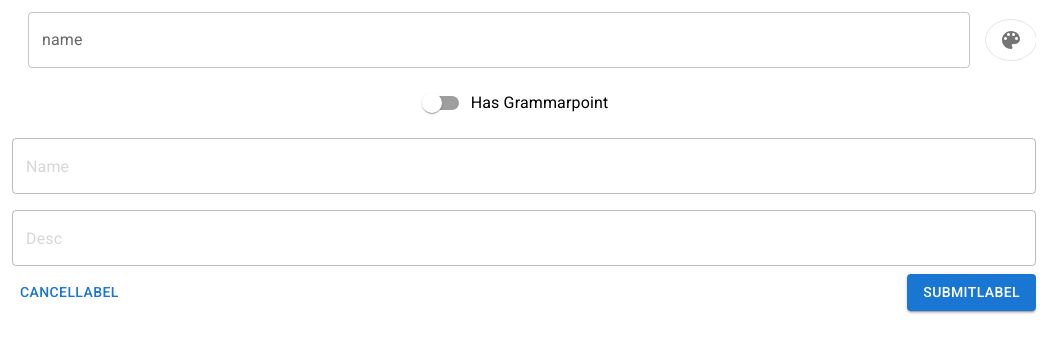
Scenario: Tag Form › should display error, when submitted without a name
The width and height of the screenshot is (1048, 353).
Click the button with aria-label "save" at (972, 292), box x1=907 y1=274 x2=1036 y2=310
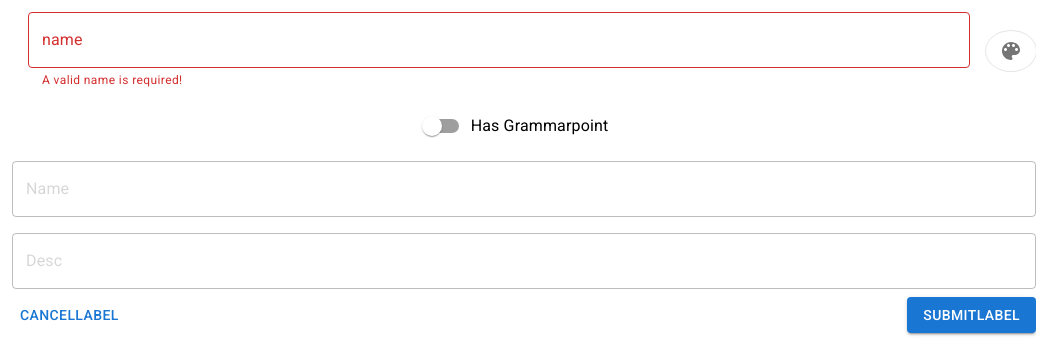
Check: the text "A valid name is required!" is shown, box x1=42 y1=73 x2=183 y2=87
